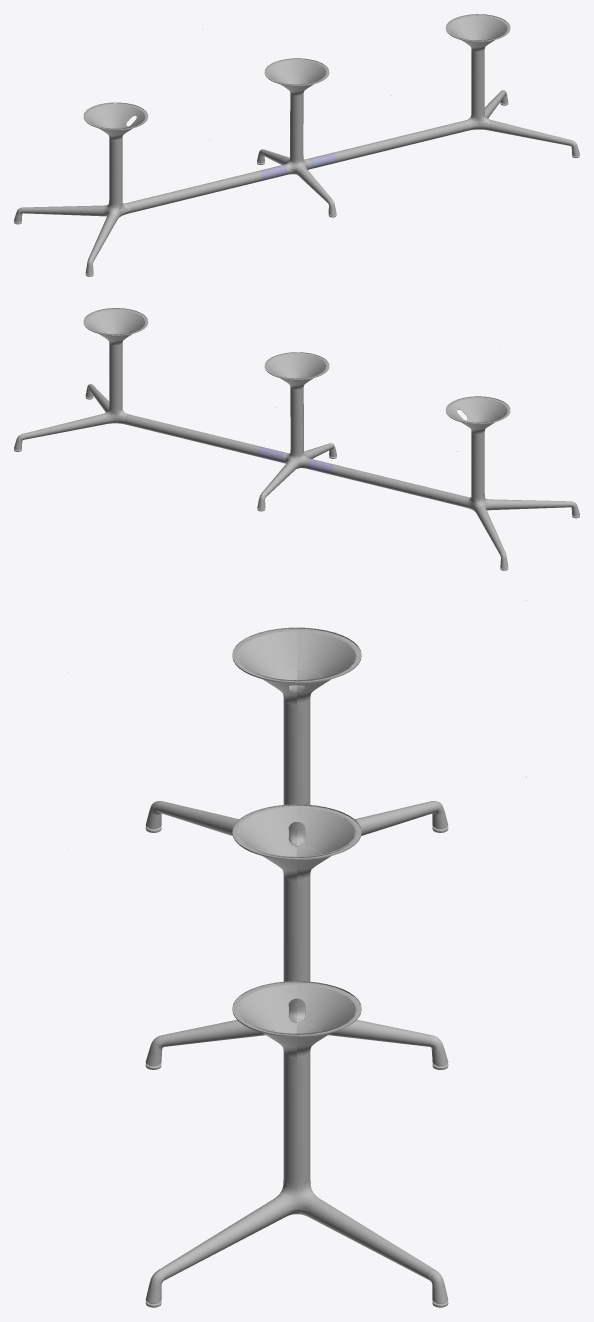
3 views of the same model, one above another, from view 1: azimuth 30°, elevation 25°; view 2: azimuth 150°, elevation 25°; view 3: azimuth 270°, elevation 25° (orthographic). The views are drawn at different scales.
Visible parts, largest first — view 1: group_7, group_8, Group_183, Group_337_001, Group_295, Group_140, Group_251, group_10, group_9_001, group_10_001, group_12_002, group_11 (+1 smaller); view 2: group_7, group_8, Group_328, Group_189, Group_300_001, Group_152, Group_263, group_10, group_9_001, group_10_001, group_12_002, group_14; view 3: group_10_001, Group_153, Group_141, Group_300_001, Group_295, Group_189, Group_183, Group_337_001, Group_328, group_9_001, group_13, group_11 (+6 smaller).
Boxes of the visible parts, x1,y1,x2,y2 form: group_7: [156, 171, 261, 206]; group_8: [333, 133, 414, 162]; Group_183: [449, 16, 502, 38]; Group_337_001: [268, 60, 321, 83]; Group_295: [87, 104, 140, 127]; Group_140: [489, 121, 570, 145]; Group_251: [22, 206, 102, 216]; group_10: [412, 120, 468, 143]; group_9_001: [109, 155, 122, 201]; group_10_001: [471, 67, 484, 113]; group_12_002: [290, 110, 303, 157]; group_11: [471, 50, 484, 81]; group_7: [332, 465, 437, 499]; group_8: [178, 427, 260, 456]; Group_328: [272, 354, 325, 376]; Group_189: [91, 310, 144, 332]; Group_300_001: [453, 398, 506, 421]; Group_152: [23, 414, 104, 439]; Group_263: [491, 500, 571, 509]; group_10: [125, 414, 181, 437]; group_9_001: [471, 450, 484, 495]; group_10_001: [109, 361, 122, 407]; group_12_002: [290, 404, 303, 451]; group_14: [471, 433, 484, 463]; group_10_001: [283, 1087, 310, 1179]; Group_153: [308, 1199, 432, 1279]; Group_141: [161, 1199, 285, 1279]; Group_300_001: [239, 631, 296, 690]; Group_295: [297, 631, 354, 690]; Group_189: [239, 985, 296, 1034]; Group_183: [297, 985, 354, 1034]; Group_337_001: [297, 808, 354, 857]; Group_328: [239, 808, 296, 857]; group_9_001: [283, 733, 310, 826]; group_13: [283, 877, 310, 938]; group_11: [283, 1054, 310, 1115].
Bounding box in the file's own units: 2.7 × 1.09 × 0.6662.
